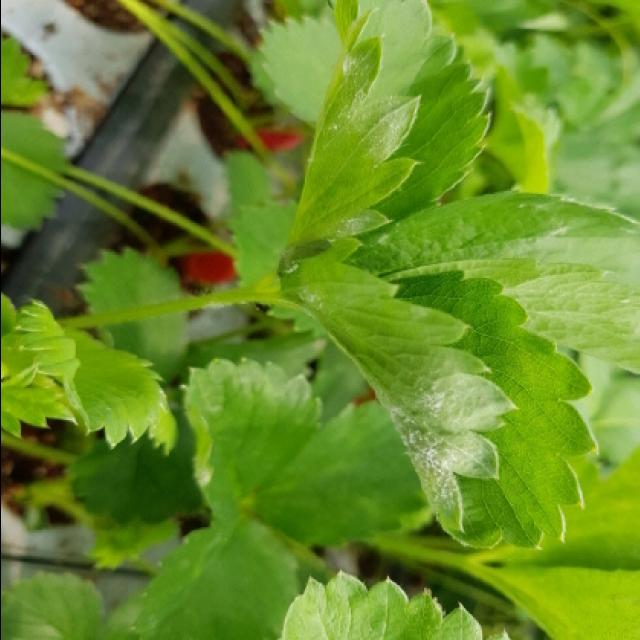Powdery Mildew Leaf: (271, 234, 597, 552), (283, 2, 489, 260)
